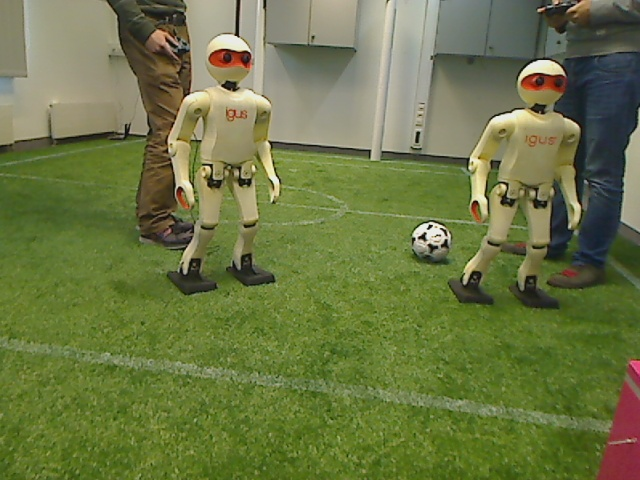ball: (409, 218, 455, 266)
robot: (163, 33, 288, 294), (455, 58, 583, 310)
